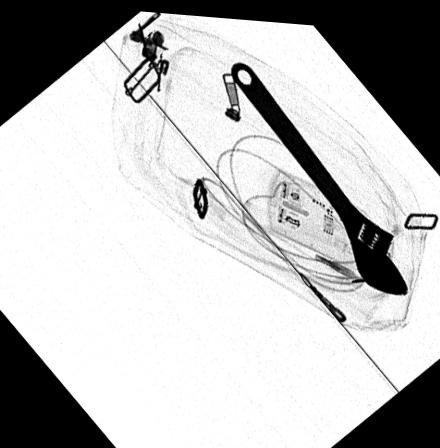Wrench: (225, 55, 411, 292)
